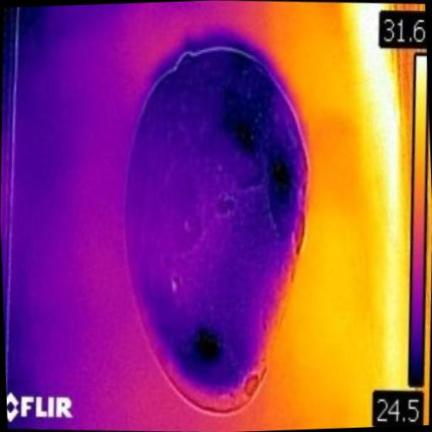mango: (127, 47, 306, 409)
